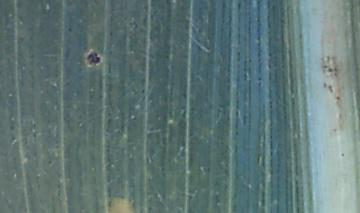tarspot: (86, 49, 102, 66)
